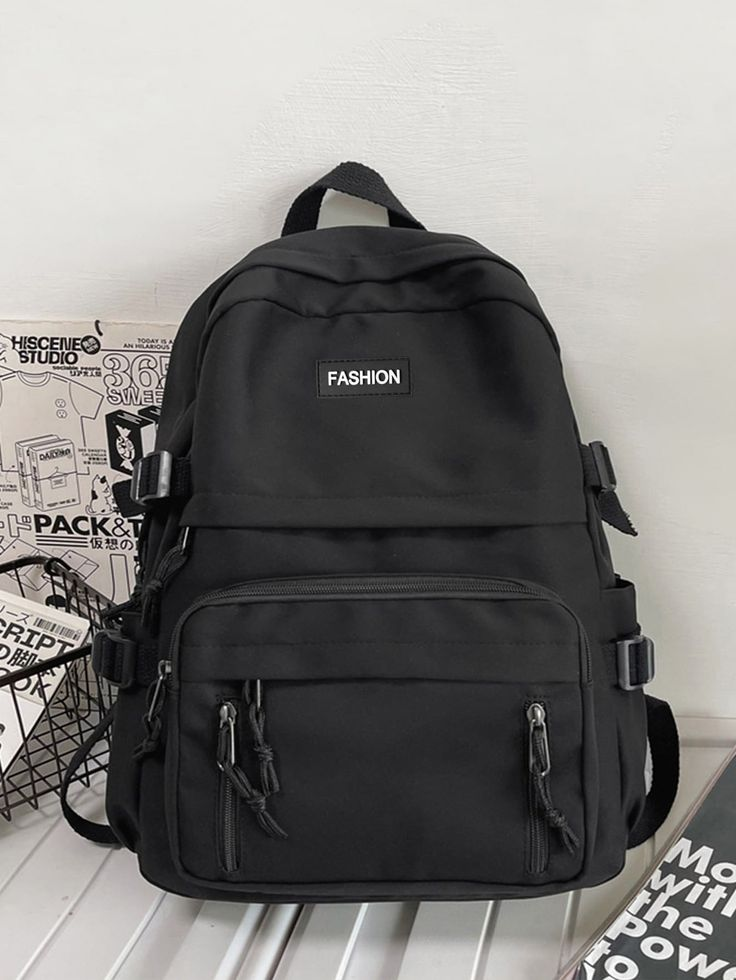nylon: (57, 158, 683, 902)
